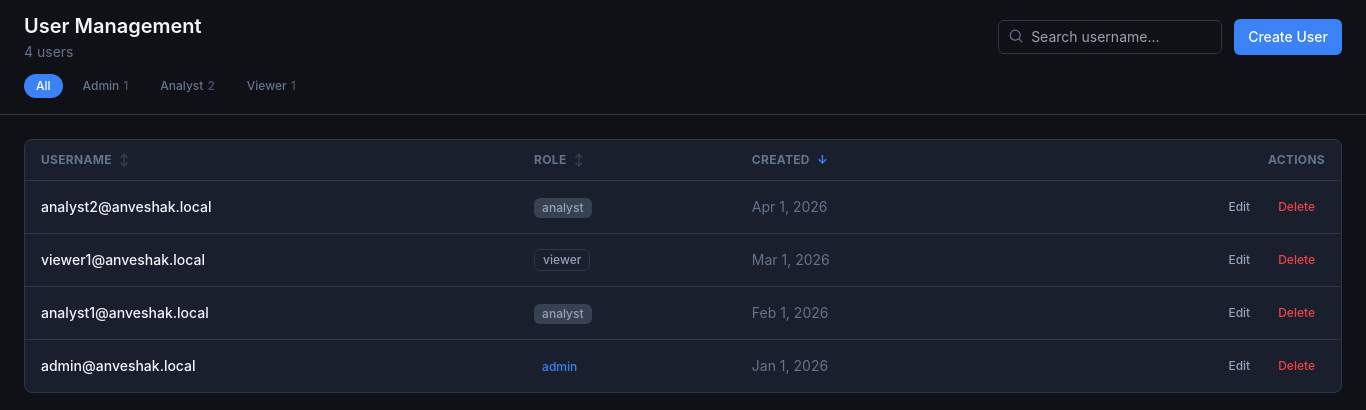
UserManagement page › filters users by search query
The width and height of the screenshot is (1366, 410).
expect the text "admin@anveshak.local" is shown: met, box [25,340,518,392]
Type "viewer" into the field with placeholder "Search username..." at point(1110, 37), box [998,20,1222,54]
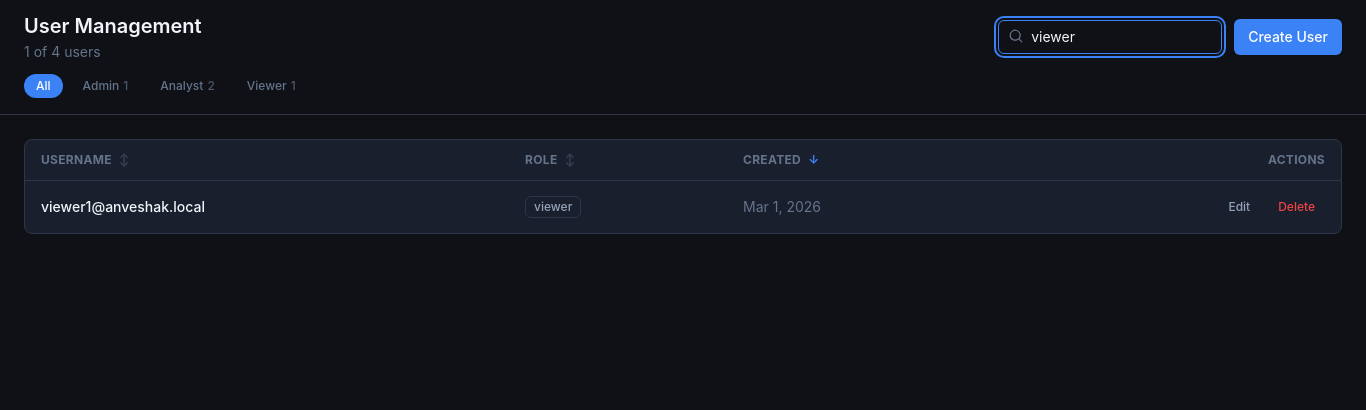
expect the text "viewer1@anveshak.local" is shown: met, box [25,180,509,233]
expect the text "admin@anveshak.local" is gone: met
